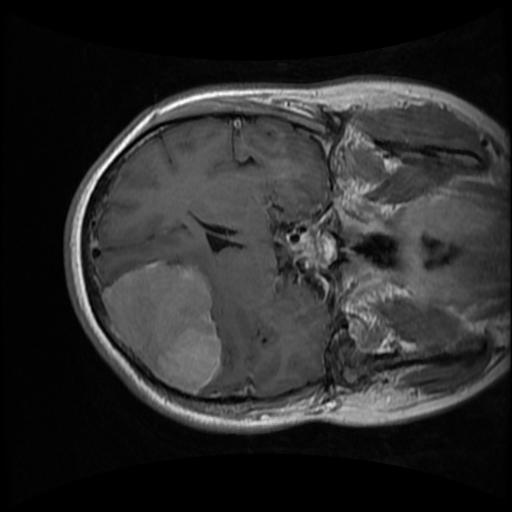meningioma: (100, 261, 220, 395)
